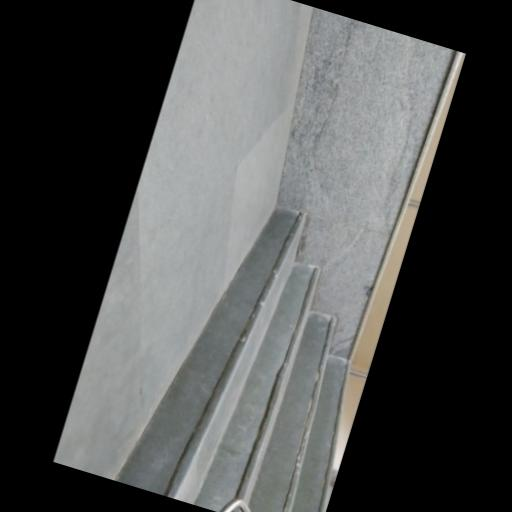stairs: (116, 210, 345, 511)
